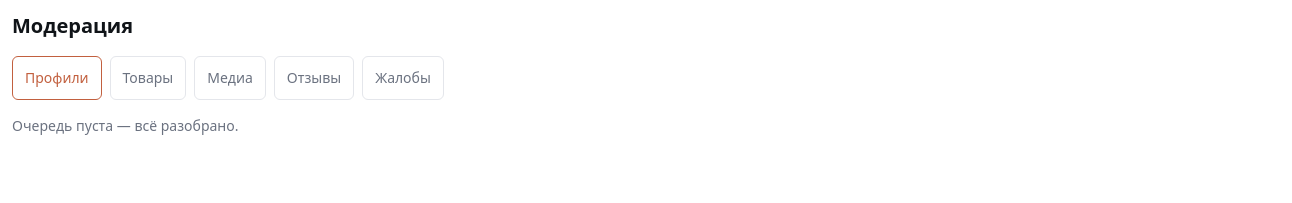
Test case: ModerationPage › переключение на очередь товаров
Click the tab "Товары" at x=148, y=78, box 110,56 -> 186,100
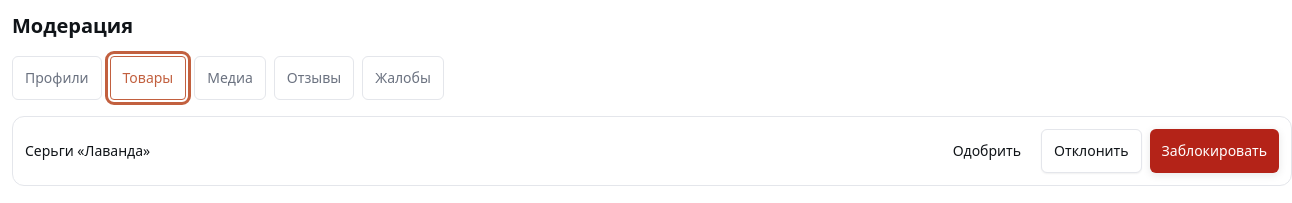
Result: the text "Серьги «Лаванда»" is shown at 25,141 -> 150,161
